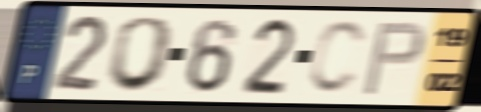2: (239, 14, 301, 98), (51, 13, 110, 95)
6: (185, 16, 241, 95)
C: (305, 17, 370, 98)
O: (103, 14, 178, 95)
P: (359, 19, 427, 98)
